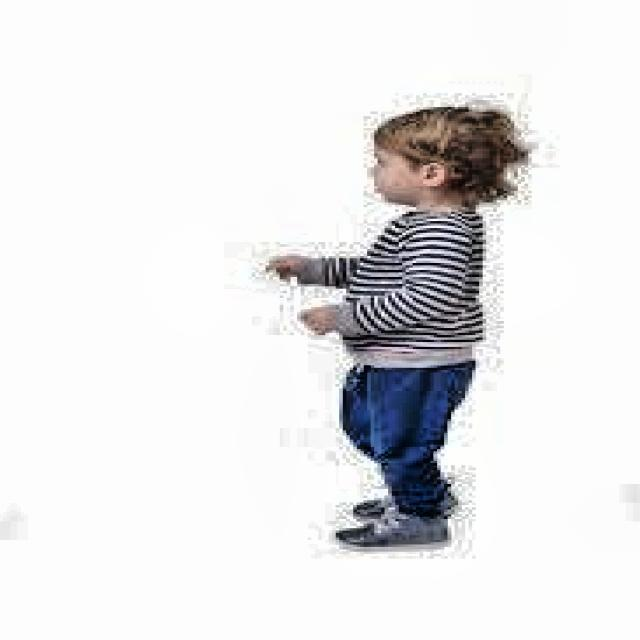Human: (269, 90, 523, 576)
